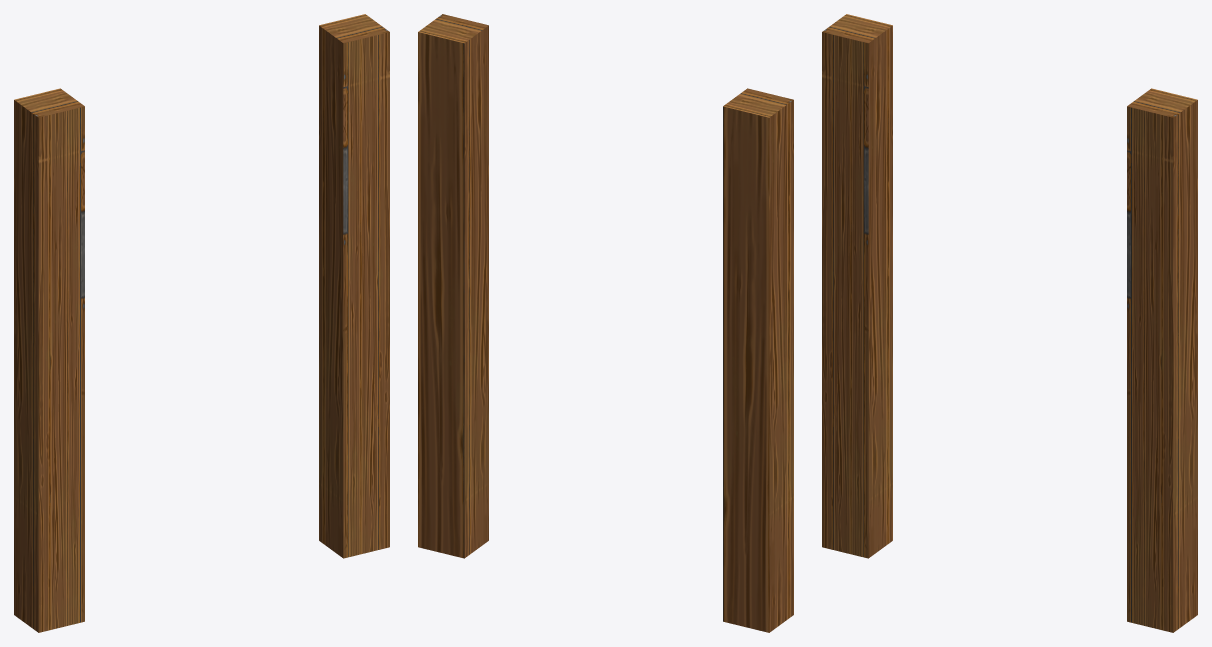
The picture shows the model from 3 angles, left to right: view 1: azimuth 30°, elevation 25°; view 2: azimuth 150°, elevation 25°; view 3: azimuth 330°, elevation 25°; orthographic projection.
Visible parts, largest first — view 1: Cube.930; view 2: Cube.930; view 3: Cube.930.
Part boxes in pixels (x1,y1,x2,y2): Cube.930: [14, 14, 389, 632]; Cube.930: [418, 14, 793, 632]; Cube.930: [822, 14, 1197, 632].
Bounding box in the file's own units: 182 × 255 × 22.12.
Materials: 1 (1 with a texture image).
